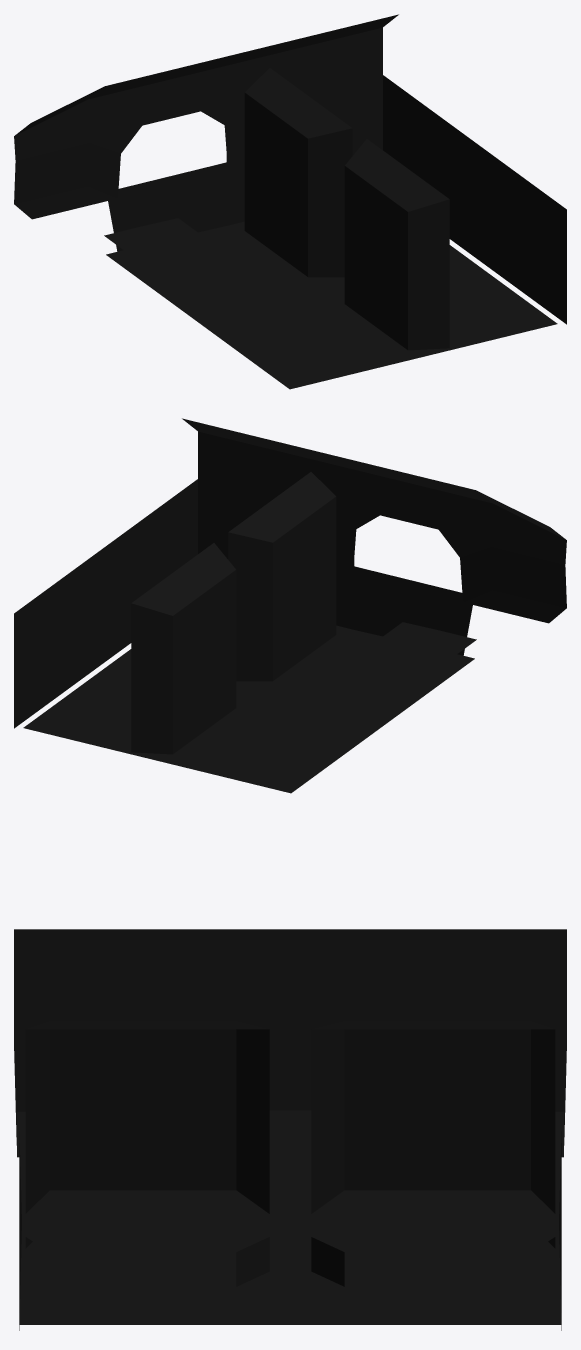
Rendered from car.obj.
The picture shows the model from 3 angles, top to bottom: view 1: azimuth 30°, elevation 25°; view 2: azimuth 150°, elevation 25°; view 3: azimuth 270°, elevation 25°; orthographic projection. The views are drawn at different scales.
Parts seen in each view (by area): view 1: Plane; view 2: Plane; view 3: Plane.
Boxes of the visible parts, x1,y1,x2,y2 form: Plane: (14,14,566,389); Plane: (14,418,566,793); Plane: (14,929,566,1330).
Bounding box in the file's own units: 4.91 × 2.65 × 4.33.
